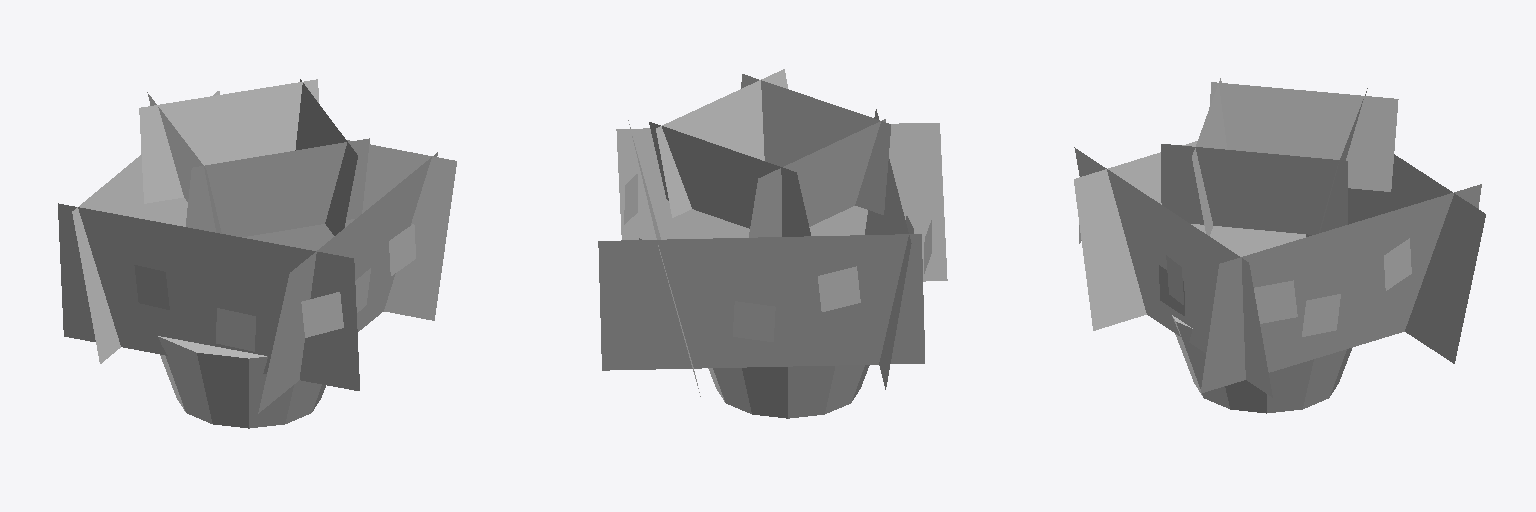
The model's file is potPlant1.obj.
3 renders of one model, left to right at view 1: azimuth 30°, elevation 25°; view 2: azimuth 150°, elevation 25°; view 3: azimuth 270°, elevation 25°, orthographic.
Visible parts, largest first — view 1: hanging_flowers1.004_Cylinder.011; view 2: hanging_flowers1.004_Cylinder.011; view 3: hanging_flowers1.004_Cylinder.011.
Boxes of the visible parts, x1=… form: hanging_flowers1.004_Cylinder.011: x1=58, y1=79, x2=456, y2=428; hanging_flowers1.004_Cylinder.011: x1=598, y1=69, x2=947, y2=418; hanging_flowers1.004_Cylinder.011: x1=1074, y1=78, x2=1485, y2=413.
Size of the model in its own units: 3.09 by 2.31 by 3.23.